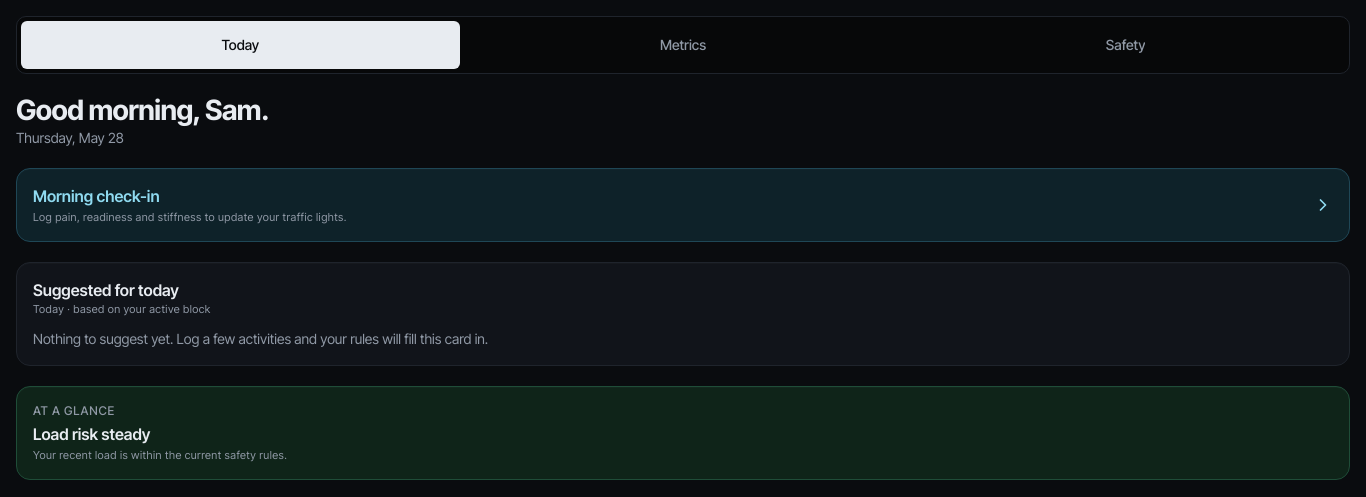
it: Remaining Dashboard sections unaffected › renders the This week section
Click the radio button labelled "Metrics". click: (683, 45)
box: [464,21,902,69]
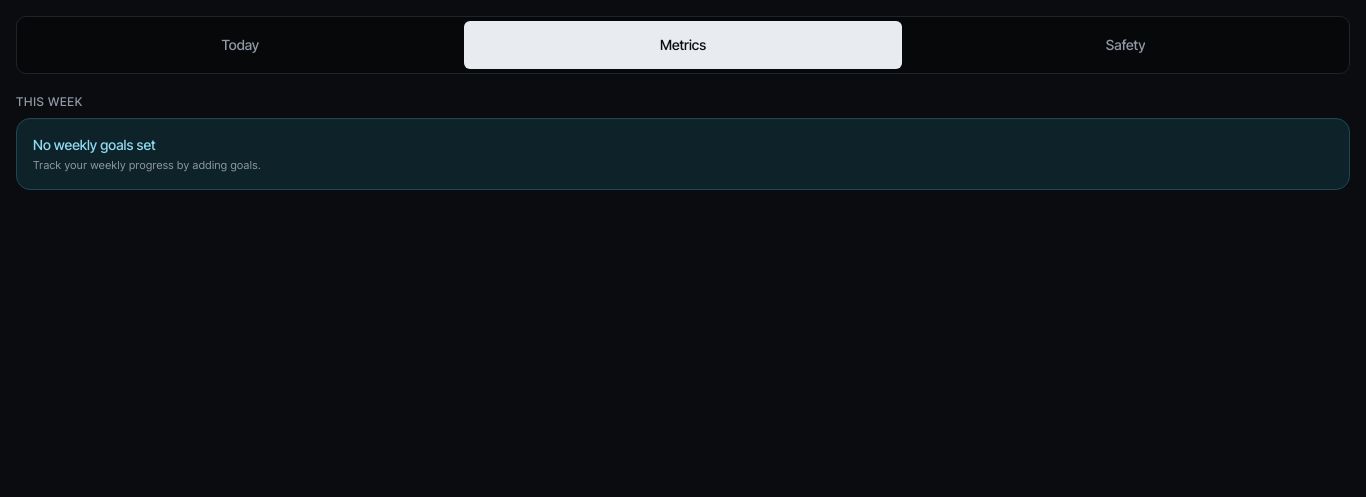
Expected: the text "This week" is shown, [16,94,83,109]
